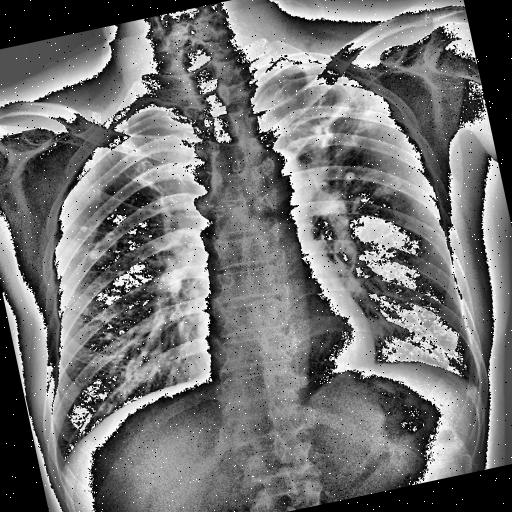1- Atelectasis: (277, 73, 406, 205)
13- Pulmonary fibrosis: (288, 68, 408, 211), (277, 73, 406, 205), (296, 72, 386, 154), (74, 212, 140, 284), (73, 216, 131, 284), (72, 214, 122, 264), (118, 128, 161, 180), (371, 180, 399, 201), (343, 169, 355, 181), (353, 194, 364, 202)
2- Calcification: (72, 214, 122, 264)
8- Nodule-Mass: (343, 169, 355, 181), (353, 194, 364, 202)
